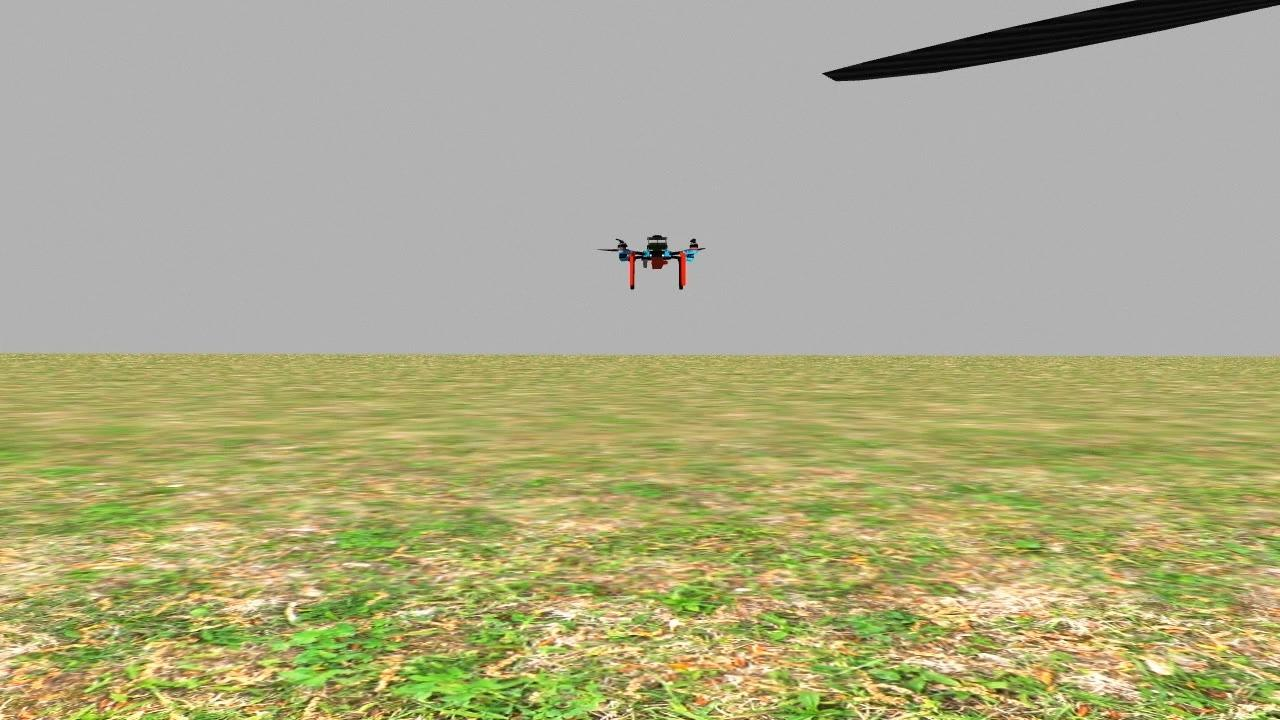UAV: (594, 221, 722, 292)
